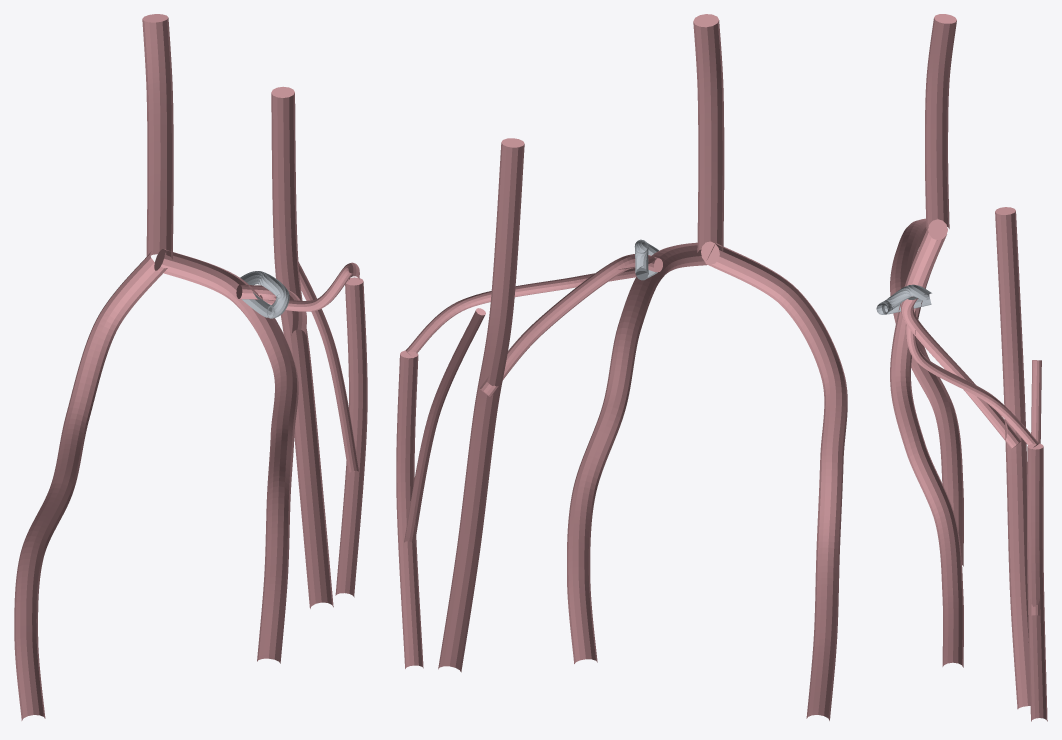
The model's file is craniocervical_pa1.glb.
The picture shows the model from 3 angles, left to right: view 1: azimuth 30°, elevation 25°; view 2: azimuth 150°, elevation 25°; view 3: azimuth 270°, elevation 25°; orthographic projection. The views are drawn at different scales.
Parts seen in each view (by area): view 1: Vertebral esquerda (V1–V4 esquemático), ACI cervical — referência, Vertebral direita (V1–V4 esquemático), Basilar, Carótida externa — referência, Faríngea ascendente, Forame transversário C1 — guia, Artéria occipital, Proatlântica tipo I persistente; view 2: ACI cervical — referência, Vertebral esquerda (V1–V4 esquemático), Vertebral direita (V1–V4 esquemático), Basilar, Carótida externa — referência, Proatlântica tipo I persistente, Faríngea ascendente, Artéria occipital; view 3: ACI cervical — referência, Vertebral direita (V1–V4 esquemático), Vertebral esquerda (V1–V4 esquemático), Basilar, Carótida externa — referência, Proatlântica tipo I persistente, Artéria occipital, Faríngea ascendente, Forame transversário C1 — guia.
Boxes of the visible parts, <box> form: Vertebral esquerda (V1–V4 esquemático): <box>14,252,167,720</box>; ACI cervical — referência: <box>271,86,333,608</box>; Vertebral direita (V1–V4 esquemático): <box>154,249,298,663</box>; Basilar: <box>142,14,173,259</box>; Carótida externa — referência: <box>335,277,367,597</box>; Faríngea ascendente: <box>298,261,359,473</box>; Forame transversário C1 — guia: <box>240,271,289,318</box>; Artéria occipital: <box>260,262,359,311</box>; Proatlântica tipo I persistente: <box>236,285,306,335</box>; ACI cervical — referência: <box>438,138,524,672</box>; Vertebral esquerda (V1–V4 esquemático): <box>705,243,847,720</box>; Vertebral direita (V1–V4 esquemático): <box>567,241,719,663</box>; Basilar: <box>693,14,724,252</box>; Carótida externa — referência: <box>396,350,423,668</box>; Proatlântica tipo I persistente: <box>479,254,662,396</box>; Faríngea ascendente: <box>404,308,485,544</box>; Artéria occipital: <box>405,267,636,355</box>; ACI cervical — referência: <box>995,207,1030,709</box>; Vertebral direita (V1–V4 esquemático): <box>890,228,963,667</box>; Vertebral esquerda (V1–V4 esquemático): <box>890,218,963,566</box>; Basilar: <box>925,14,956,229</box>; Carótida externa — referência: <box>1027,443,1047,721</box>; Proatlântica tipo I persistente: <box>901,298,1021,448</box>; Artéria occipital: <box>905,310,1038,449</box>; Faríngea ascendente: <box>1030,360,1041,615</box>; Forame transversário C1 — guia: <box>876,284,931,314</box>.
Bounding box in the file's own units: 5.41 × 8.84 × 2.28.
